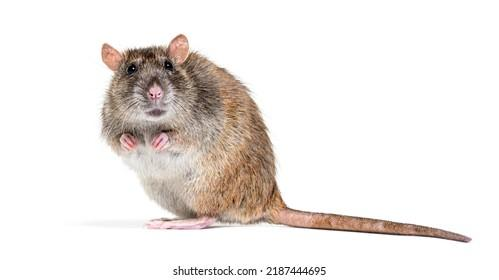rat: (95, 39, 473, 249)
